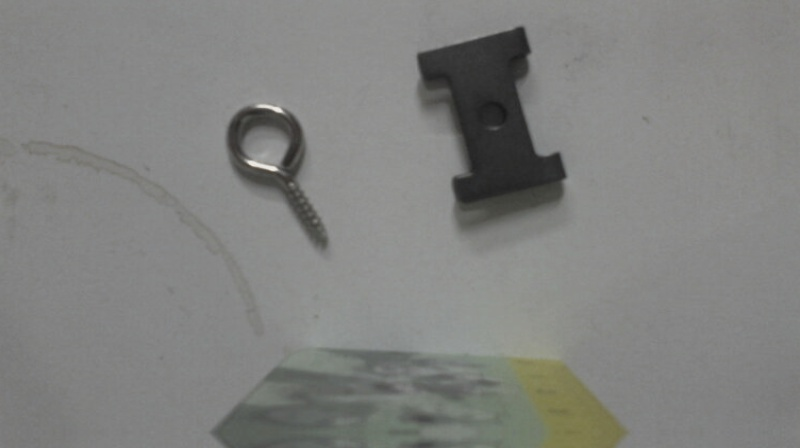O001: (220, 97, 335, 254)
O002: (412, 23, 570, 206)
